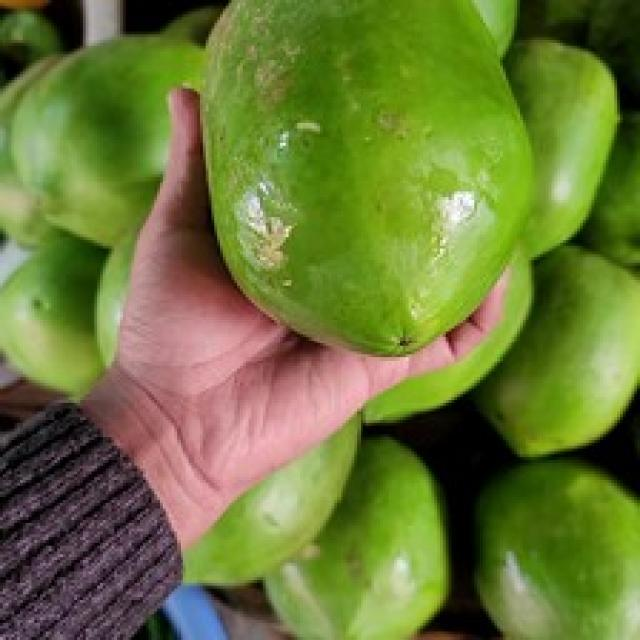Pepaya unrippen: (185, 1, 552, 363)
